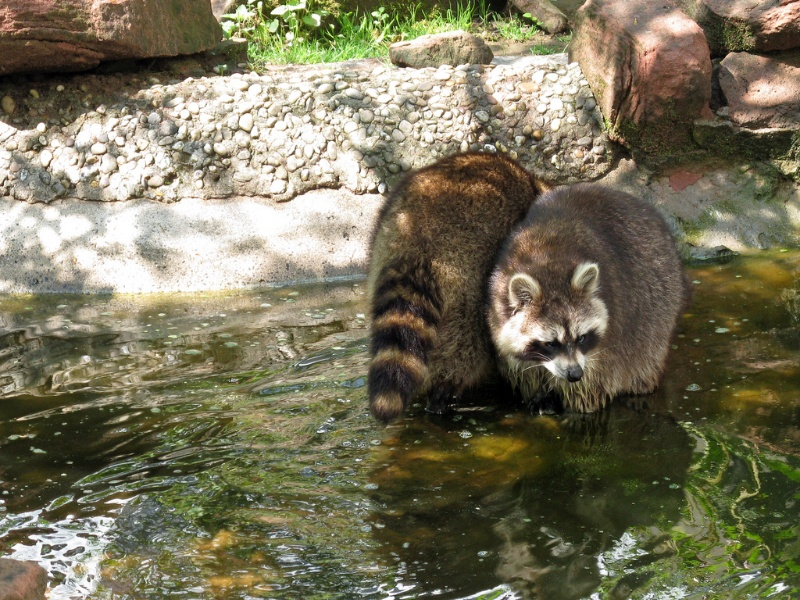raccoon: (358, 145, 541, 433), (494, 183, 691, 430)
